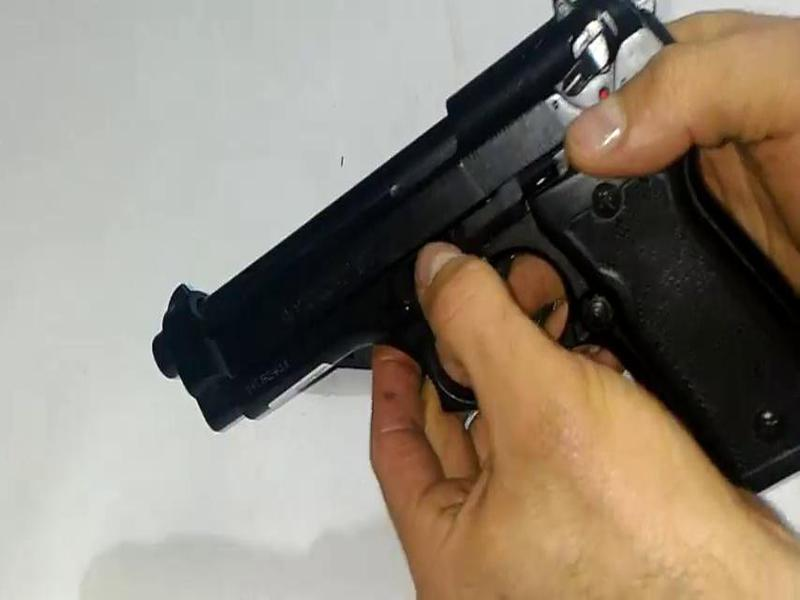Pistola: (139, 20, 800, 501)
